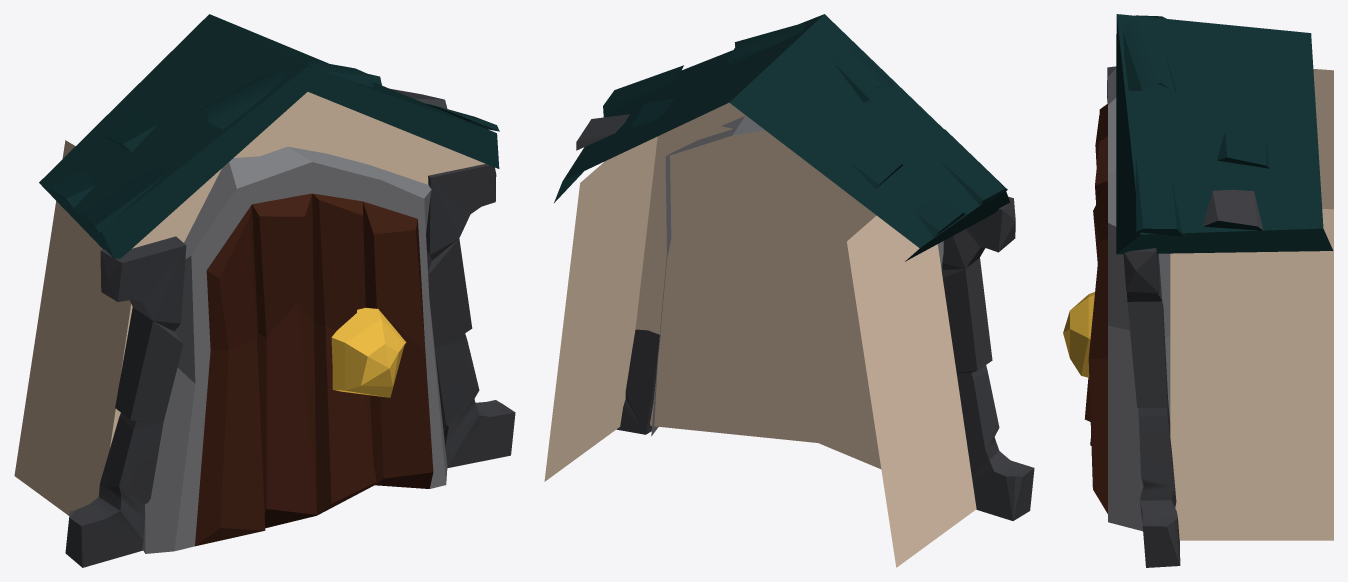
File: SM_L_G_Home_Tile_door.fbx
3 renders of one model, left to right at view 1: azimuth 30°, elevation 25°; view 2: azimuth 150°, elevation 25°; view 3: azimuth 270°, elevation 25°, orthographic. The views are drawn at different scales.
Parts seen in each view (by area): view 1: SM_L_G_Home_Tile_door; view 2: SM_L_G_Home_Tile_door; view 3: SM_L_G_Home_Tile_door.
Boxes of the visible parts, x1=… form: SM_L_G_Home_Tile_door: x1=14, y1=14, x2=515, y2=567; SM_L_G_Home_Tile_door: x1=544, y1=14, x2=1034, y2=567; SM_L_G_Home_Tile_door: x1=1063, y1=14, x2=1333, y2=567.
Bounding box in the file's own units: 1.52 × 1.49 × 0.814.
